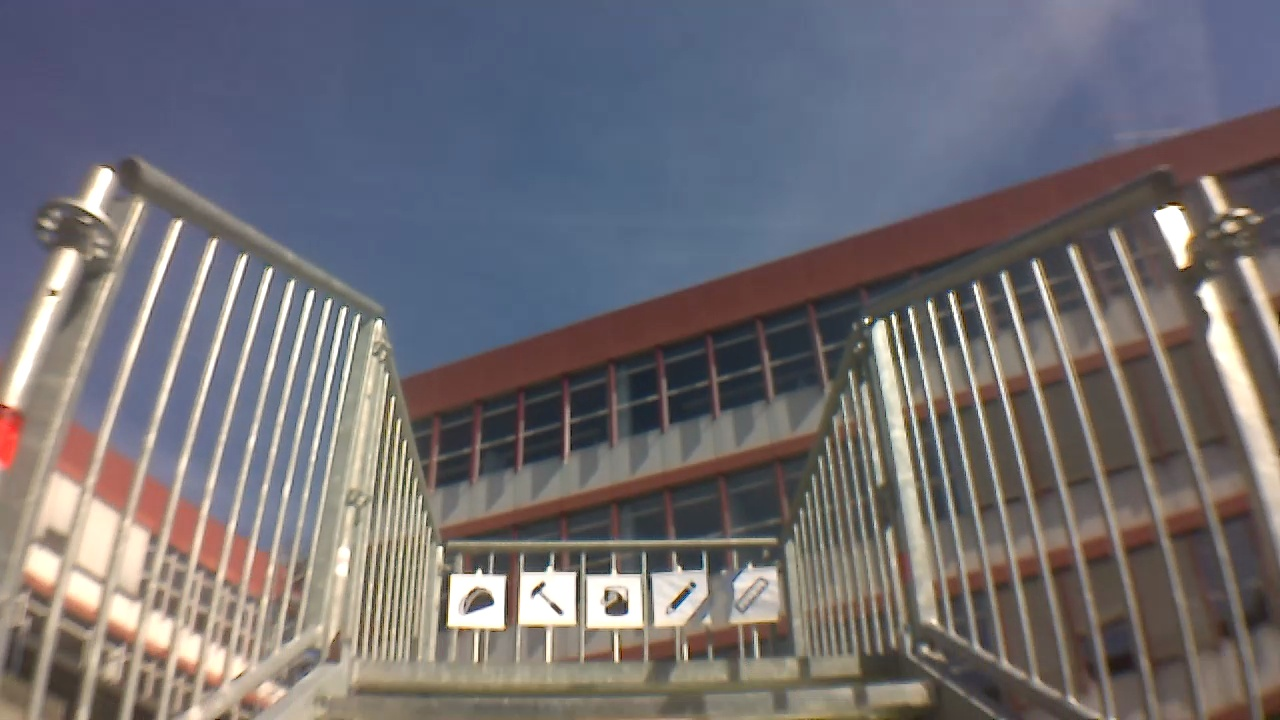bucket: (600, 587, 633, 616)
hammer: (527, 581, 567, 616)
pencil: (656, 579, 702, 618)
ruler: (723, 574, 768, 620)
stairs: (5, 152, 1280, 720)
taco: (454, 576, 492, 616)
